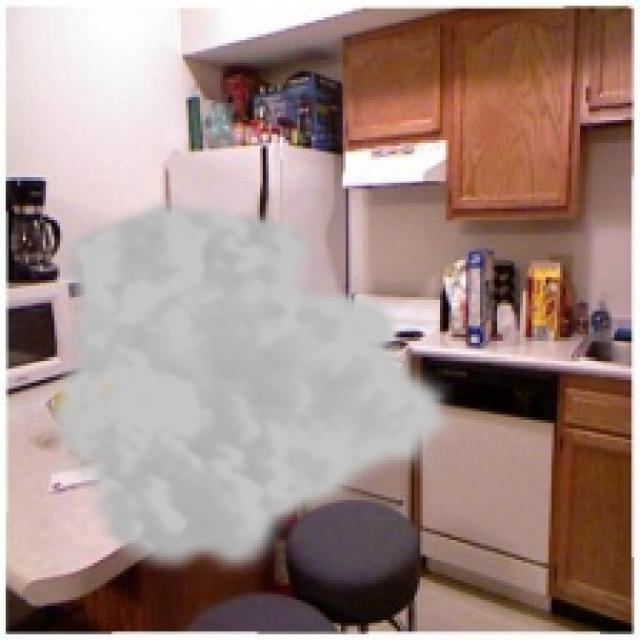Smoke: (43, 194, 460, 583)
